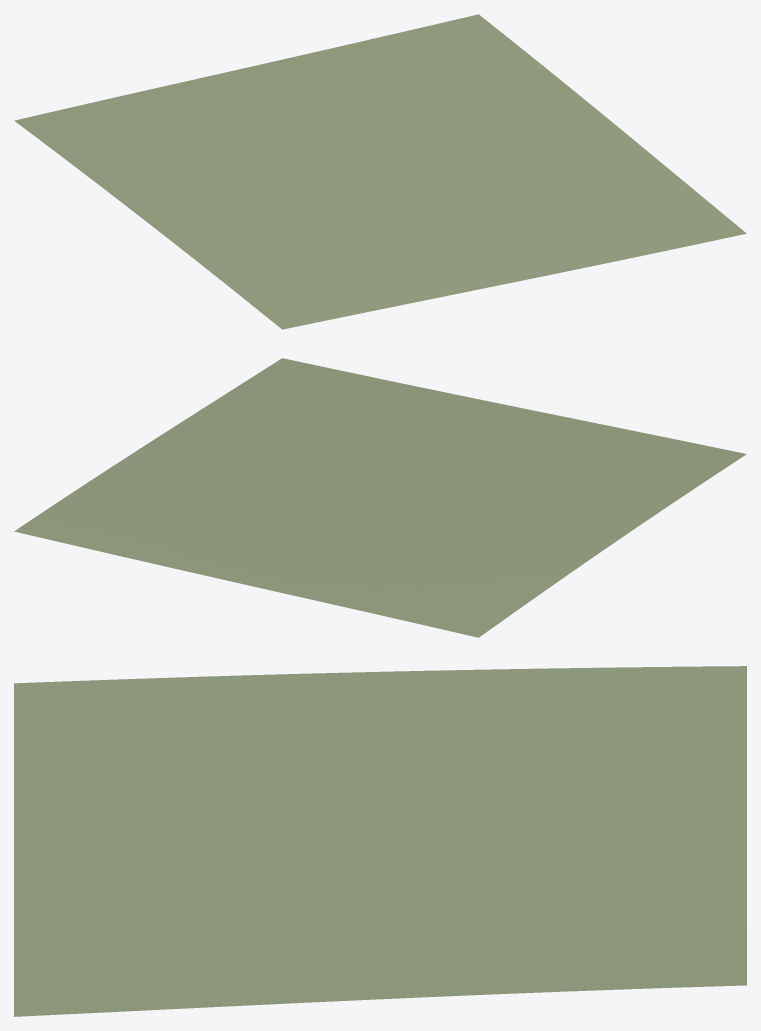
The model's file is desert-3-18.glb.
3 renders of one model, top to bottom at view 1: azimuth 30°, elevation 25°; view 2: azimuth 150°, elevation 25°; view 3: azimuth 270°, elevation 25°, orthographic. The views are drawn at different scales.
Visible parts, largest first — view 1: desert-3-18; view 2: desert-3-18; view 3: desert-3-18.
Part boxes in pixels (<box>): desert-3-18: <box>14,14,746,329</box>; desert-3-18: <box>14,358,746,637</box>; desert-3-18: <box>14,666,746,1016</box>.
Bounding box in the file's own units: 512 × 31.59 × 512.
